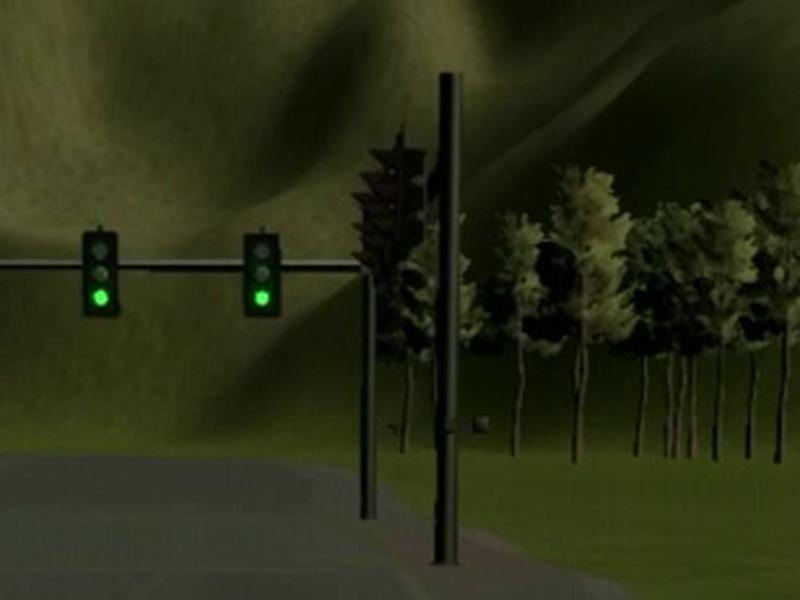Green: (82, 231, 119, 317), (244, 234, 282, 317)
